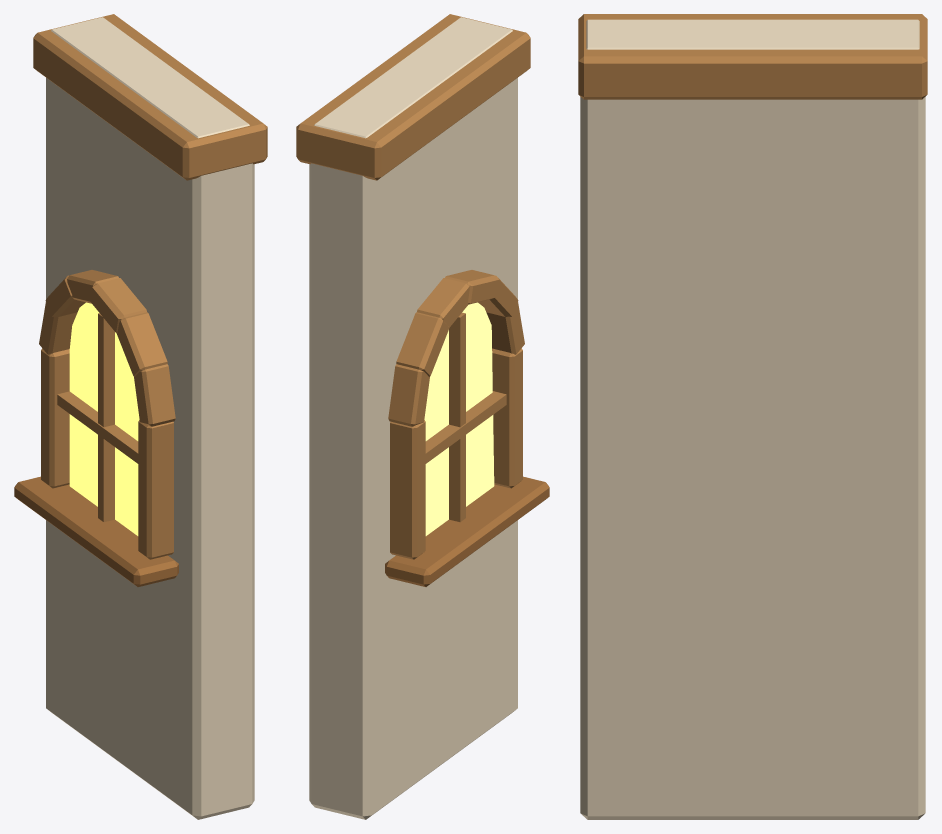
The model's file is mod_wall_curved_r2.62_n18_window.glb.
The picture shows the model from 3 angles, left to right: view 1: azimuth 30°, elevation 25°; view 2: azimuth 150°, elevation 25°; view 3: azimuth 270°, elevation 25°; orthographic projection. The views are drawn at different scales.
Parts seen in each view (by area): view 1: mod_wall_curved_r2.62_n18_window; view 2: mod_wall_curved_r2.62_n18_window; view 3: mod_wall_curved_r2.62_n18_window.
Boxes of the visible parts, x1=… form: mod_wall_curved_r2.62_n18_window: x1=14, y1=14, x2=267, y2=819; mod_wall_curved_r2.62_n18_window: x1=296, y1=14, x2=549, y2=819; mod_wall_curved_r2.62_n18_window: x1=578, y1=14, x2=927, y2=819.
Bounding box in the file's own units: 0.42 × 2.3 × 0.944.
